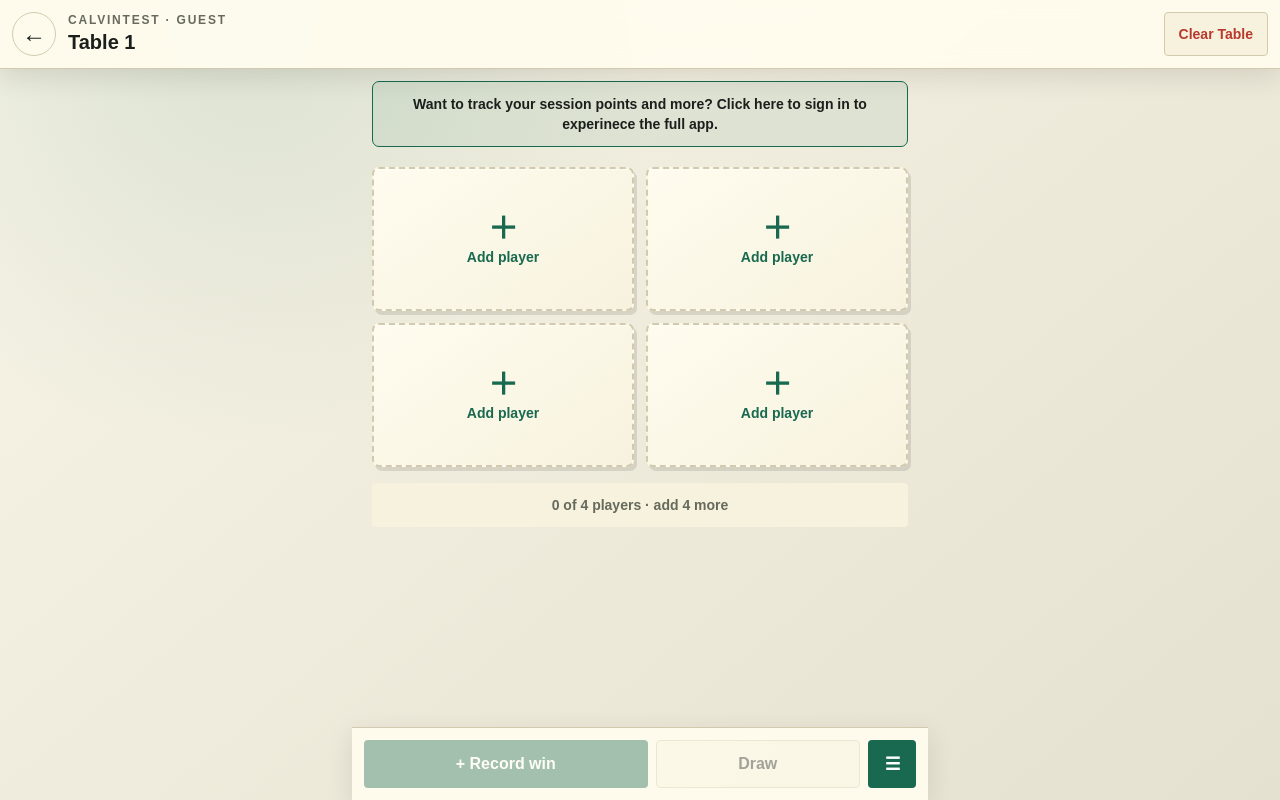
Scenario: guest focused table cross-table seat › opens the login popup when the server rejects a cross-table seat
The width and height of the screenshot is (1280, 800).
Click the 1st button "＋ Add player".
click(503, 239)  # box [372,167,634,311]
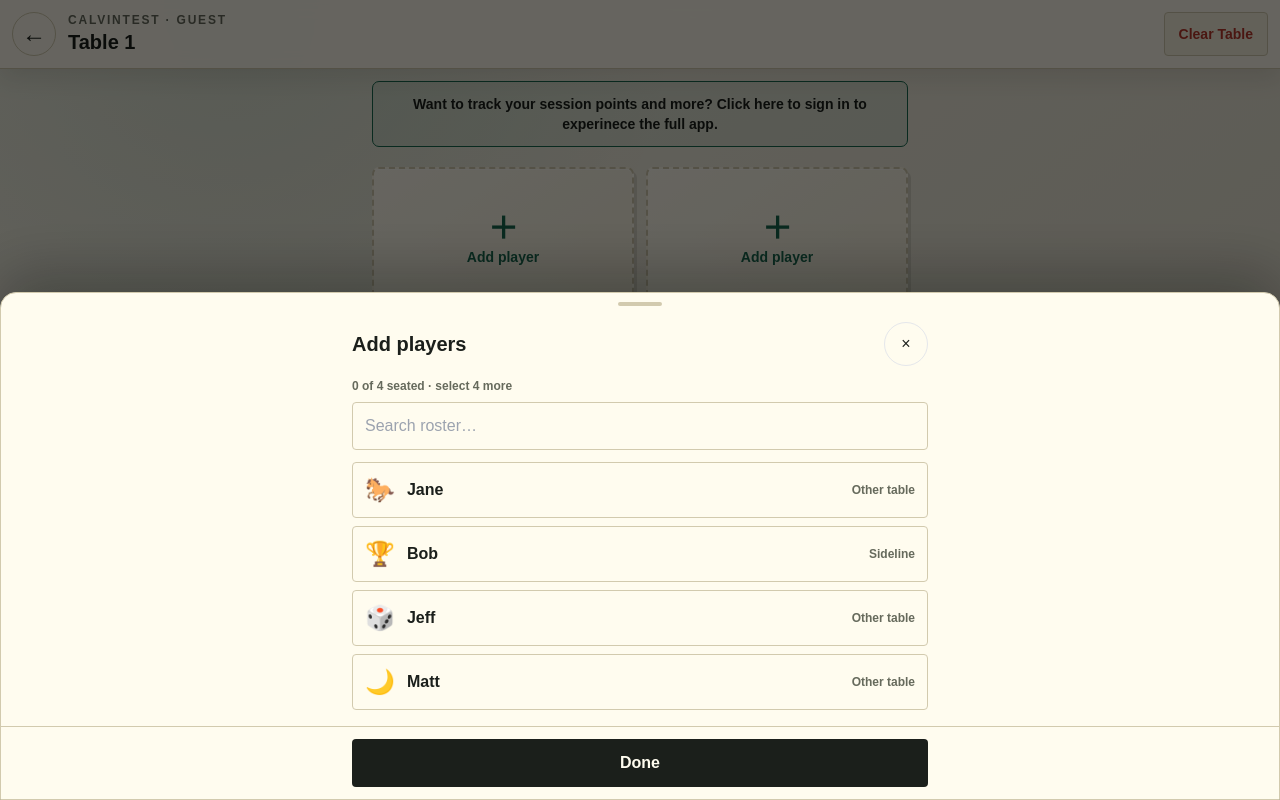
Click the button "🏆 Bob Sideline".
click(422, 554)  # box [352,526,928,582]
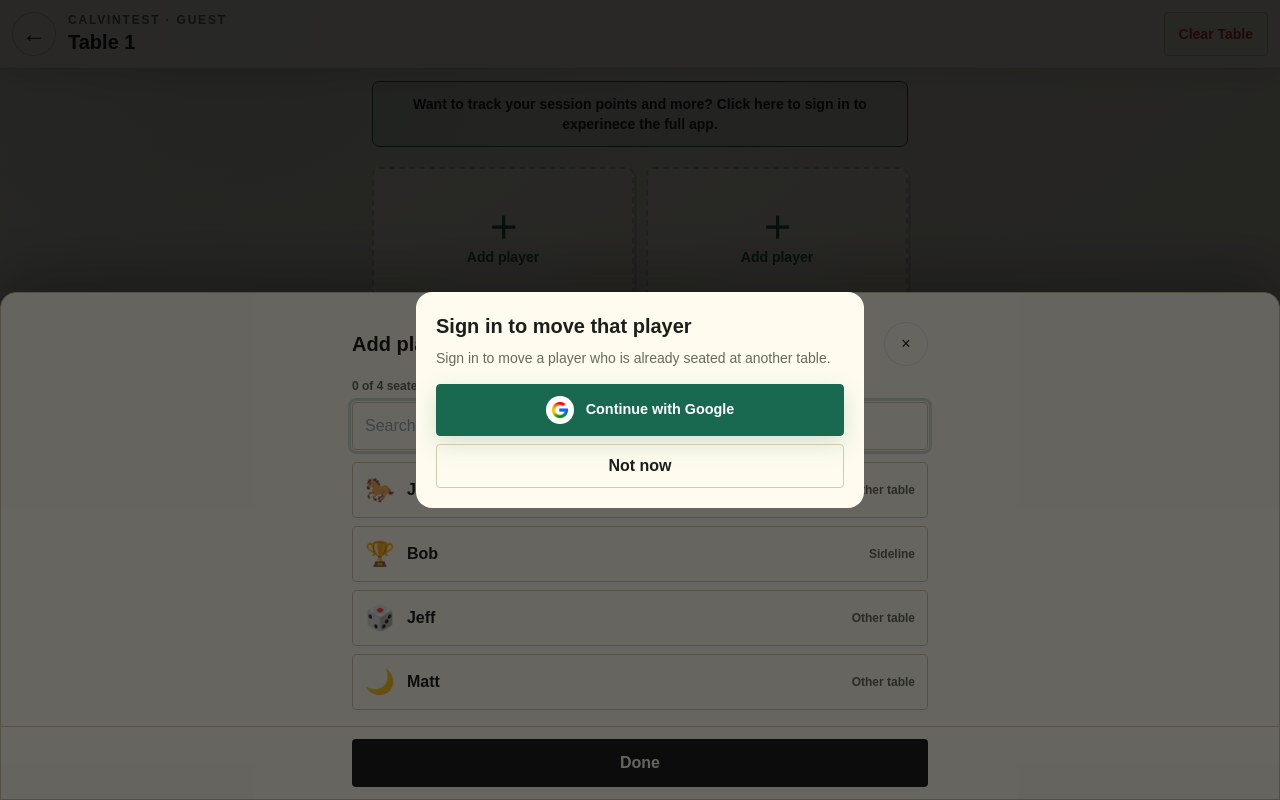
Expected: the dialog "Sign in to move that player" is shown, [416,292,864,508]
